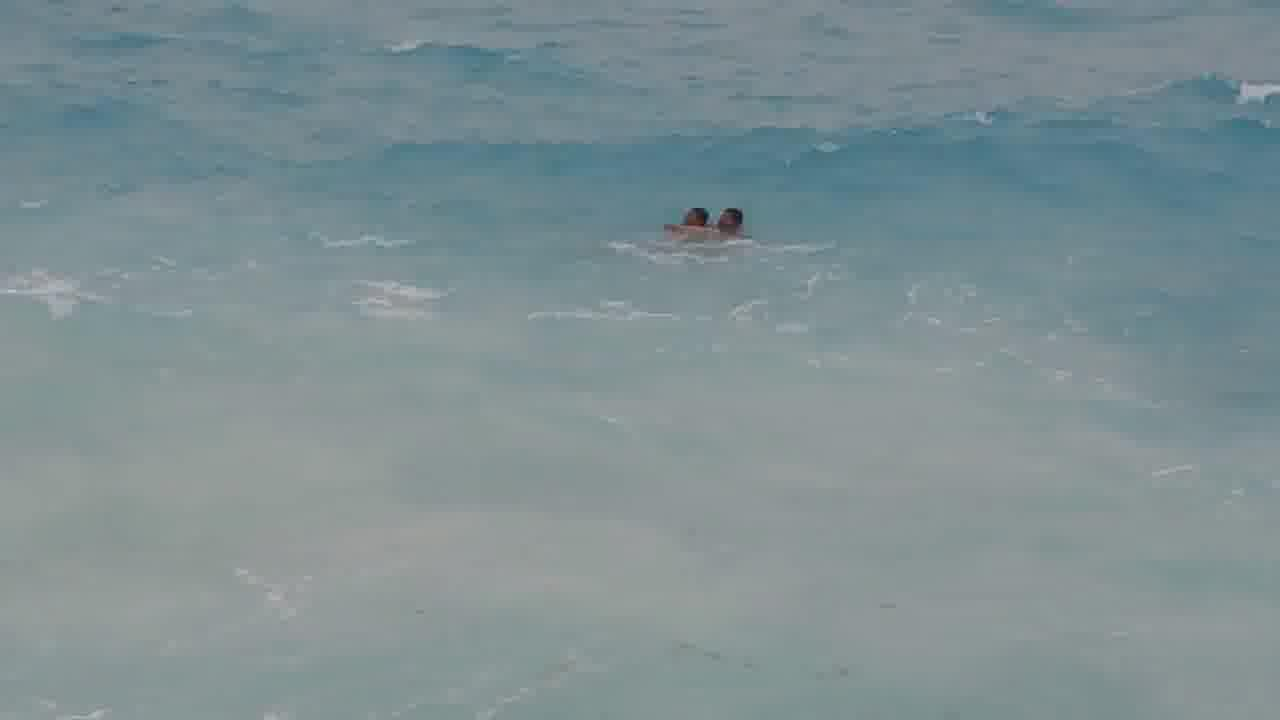swimmer: (712, 196, 744, 238), (676, 197, 702, 232)
